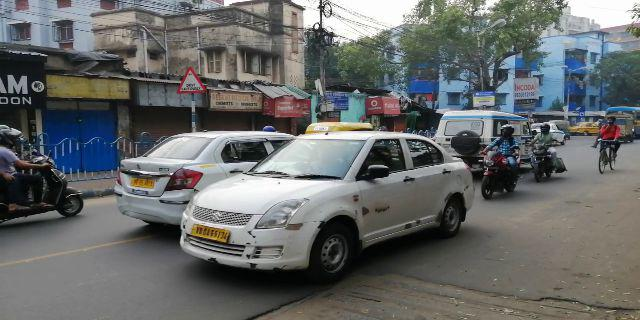Car: (182, 137, 478, 280), (113, 126, 295, 229)
Cycle: (596, 120, 619, 170)
Motorbike: (1, 132, 83, 223), (480, 125, 524, 201), (527, 120, 567, 179)
